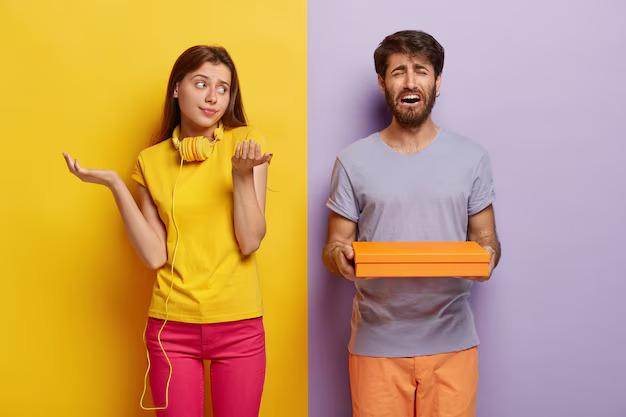normal: (169, 43, 234, 130)
triste: (373, 29, 448, 131)
